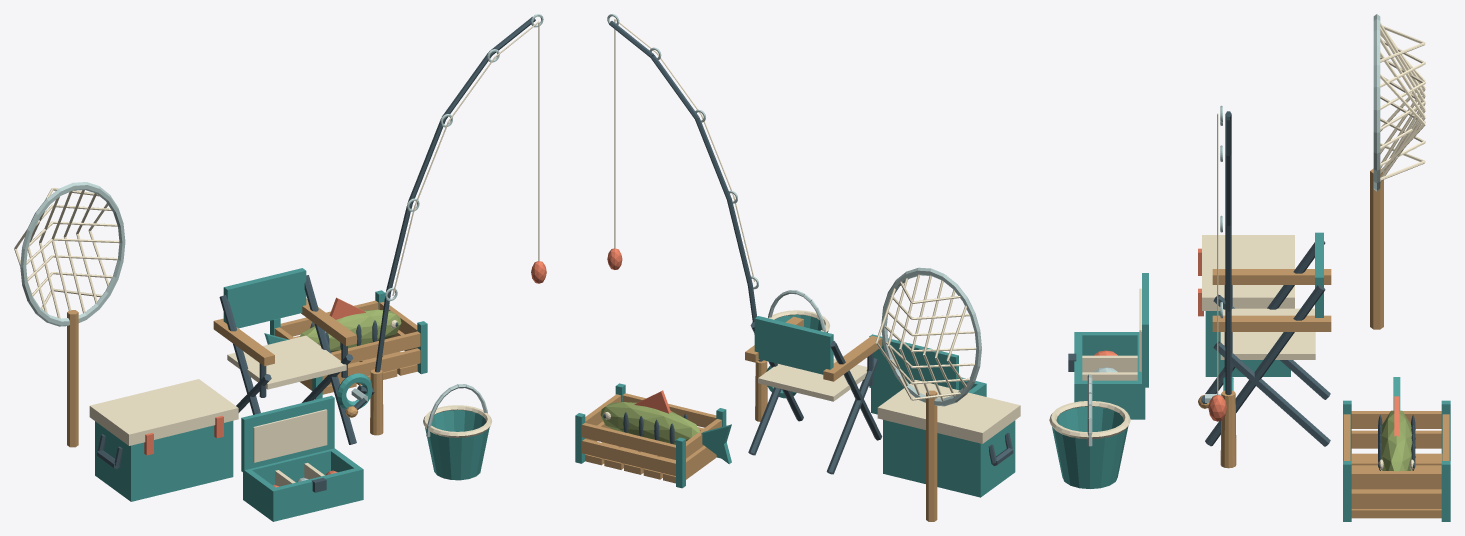
Rendered from angler_s_corner_quiet_lake_fishing_22424.glb.
3 views of the same model, side by side, from view 1: azimuth 30°, elevation 25°; view 2: azimuth 150°, elevation 25°; view 3: azimuth 270°, elevation 25° (orthographic). The views are drawn at different scales.
Parts seen in each view (by area): view 1: 003-tackle-box/teal, 002-cooler/teal, 002-cooler/cream, 006-fish-crate/wood, 005-landing-net/cream, 000-folding-chair/teal, 004-bait-bucket/teal, 003-tackle-box/cream, 000-folding-chair/cream, 000-folding-chair/iron, 005-landing-net/silver, 001-fishing-rod/iron (+9 smaller); view 2: 002-cooler/teal, 006-fish-crate/wood, 002-cooler/cream, 005-landing-net/cream, 000-folding-chair/teal, 003-tackle-box/teal, 000-folding-chair/iron, 007-perch/reed, 000-folding-chair/cream, 005-landing-net/silver, 001-fishing-rod/iron, 005-landing-net/wood (+5 smaller); view 3: 006-fish-crate/wood, 002-cooler/cream, 003-tackle-box/teal, 004-bait-bucket/teal, 000-folding-chair/iron, 005-landing-net/cream, 000-folding-chair/wood, 000-folding-chair/cream, 005-landing-net/wood, 001-fishing-rod/iron, 006-fish-crate/teal, 003-tackle-box/cream (+7 smaller).
Boxes of the visible parts, left/top/right/bottom form: 003-tackle-box/teal: left=241, top=395, right=363, bottom=521; 002-cooler/teal: left=95, top=421, right=233, bottom=501; 002-cooler/cream: left=89, top=379, right=238, bottom=445; 006-fish-crate/wood: left=274, top=300, right=420, bottom=394; 005-landing-net/cream: left=14, top=188, right=119, bottom=318; 000-folding-chair/teal: left=223, top=268, right=306, bottom=328; 004-bait-bucket/teal: left=425, top=409, right=489, bottom=480; 003-tackle-box/cream: left=253, top=409, right=327, bottom=486; 000-folding-chair/cream: left=227, top=335, right=346, bottom=389; 000-folding-chair/iron: left=219, top=275, right=356, bottom=444; 005-landing-net/silver: left=20, top=182, right=125, bottom=326; 001-fishing-rod/iron: left=354, top=16, right=535, bottom=409; 002-cooler/teal: left=883, top=420, right=1015, bottom=497; 006-fish-crate/wood: left=582, top=393, right=721, bottom=483; 002-cooler/cream: left=877, top=380, right=1020, bottom=443; 005-landing-net/cream: left=875, top=274, right=976, bottom=401; 000-folding-chair/teal: left=754, top=316, right=833, bottom=374; 003-tackle-box/teal: left=869, top=334, right=986, bottom=414; 000-folding-chair/iron: left=748, top=322, right=882, bottom=474; 007-perch/reed: left=600, top=402, right=699, bottom=444; 000-folding-chair/cream: left=758, top=359, right=867, bottom=401; 005-landing-net/silver: left=881, top=267, right=981, bottom=406; 001-fishing-rod/iron: left=609, top=21, right=763, bottom=361; 005-landing-net/wood: left=926, top=390, right=937, bottom=521; 006-fish-crate/wood: left=1343, top=411, right=1449, bottom=518; 002-cooler/cream: left=1202, top=235, right=1294, bottom=310; 003-tackle-box/teal: left=1074, top=273, right=1148, bottom=419; 004-bait-bucket/teal: left=1052, top=406, right=1127, bottom=488; 000-folding-chair/iron: left=1205, top=241, right=1330, bottom=446; 005-landing-net/cream: left=1380, top=22, right=1425, bottom=183; 000-folding-chair/wood: left=1212, top=269, right=1331, bottom=331; 000-folding-chair/cream: left=1220, top=308, right=1315, bottom=359; 005-landing-net/wood: left=1370, top=168, right=1383, bottom=329; 001-fishing-rod/iron: left=1201, top=111, right=1231, bottom=403; 006-fish-crate/teal: left=1343, top=400, right=1450, bottom=521; 003-tackle-box/cream: left=1082, top=288, right=1141, bottom=380.
Size of the model in its own units: 3.14 by 2.5 by 2.03.
